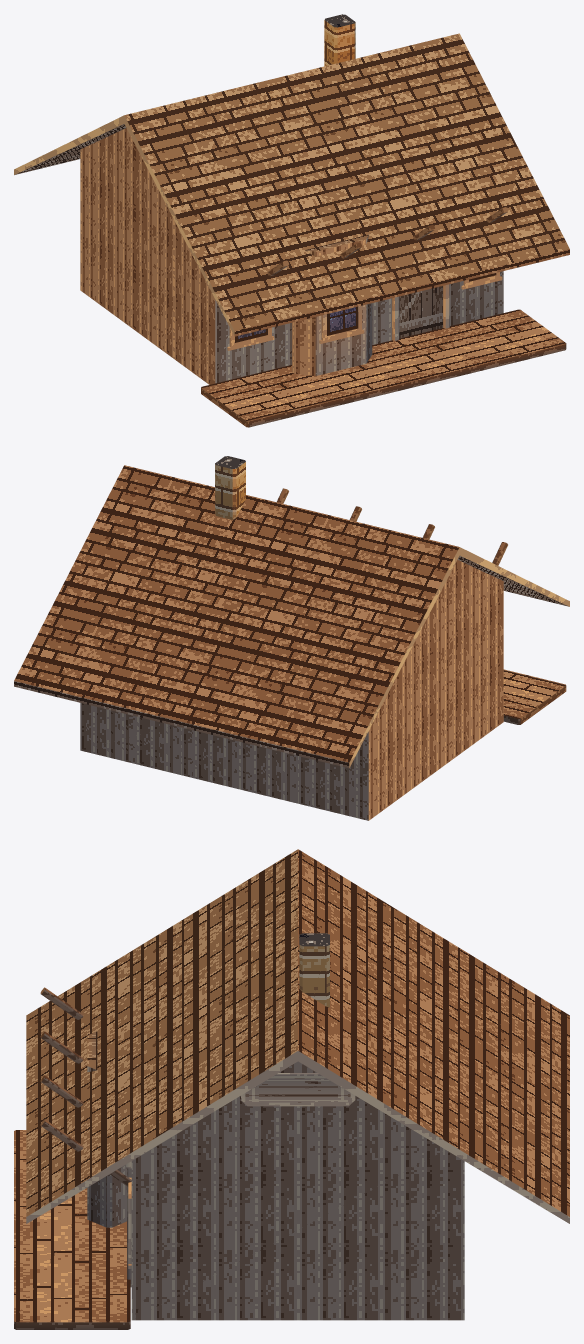
File: wrail.station__small.glb
The picture shows the model from 3 angles, top to bottom: view 1: azimuth 30°, elevation 25°; view 2: azimuth 150°, elevation 25°; view 3: azimuth 270°, elevation 25°; orthographic projection. The views are drawn at different scales.
Visible parts, largest first — view 1: kit_roof, kit_body, kit_deck, kit_bay, kit_card_panes, kit_chimney, kit_windows, kit_trim, kit_braces; view 2: kit_roof, kit_body, kit_deck, kit_chimney, kit_braces; view 3: kit_roof, kit_body, kit_deck, kit_bay, kit_card_panes, kit_chimney, kit_braces, kit_trim.
Boxes of the visible parts, x1,y1,x2,y2 form: kit_roof: (14,33,569,336); kit_body: (80,128,503,384); kit_deck: (201,309,566,427); kit_bay: (292,234,372,375); kit_card_panes: (235,273,496,342); kit_chimney: (324,14,355,66); kit_windows: (227,272,502,350); kit_trim: (392,284,449,340); kit_braces: (267,207,508,276); kit_roof: (14,465,569,768); kit_body: (80,560,503,820); kit_deck: (503,669,566,724); kit_chimney: (215,456,245,519); kit_braces: (277,488,507,565); kit_roof: (26,849,569,1223); kit_body: (131,1061,464,1320); kit_deck: (14,1130,130,1329); kit_bay: (87,1031,127,1227); kit_card_panes: (245,1078,350,1102); kit_chimney: (299,933,329,1007); kit_braces: (40,987,131,1186); kit_trim: (126,1073,355,1287).
Bounding box in the file's own units: 8.6 × 6.5 × 10.02.
10 materials, 10 textured.
